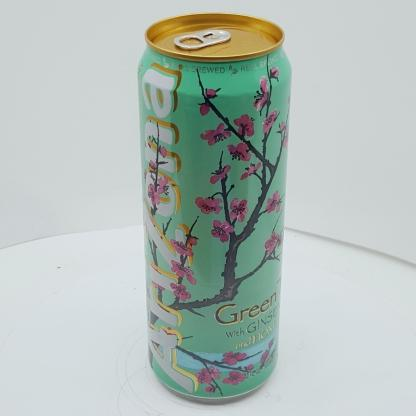-------------------680ML: (138, 12, 291, 398)
